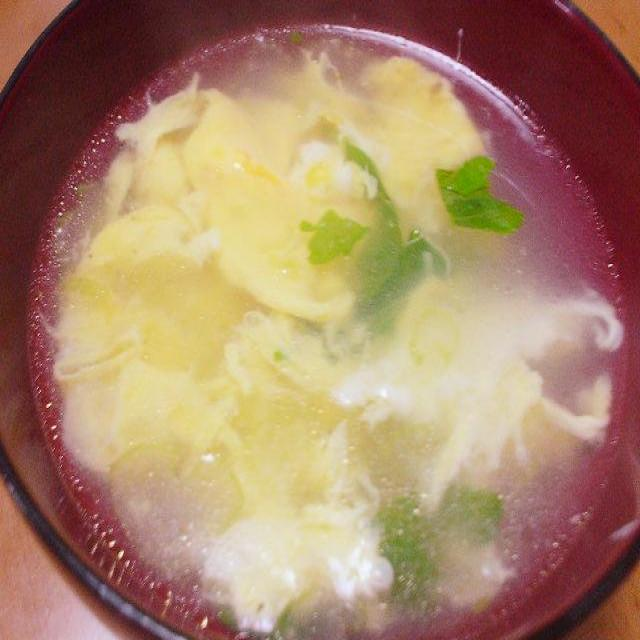汤锅炖物: (0, 5, 638, 640)
